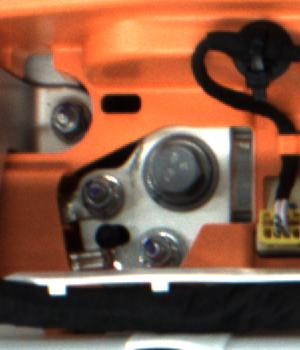nut_b: (144, 134, 215, 208)
screw_s: (44, 98, 86, 148), (85, 176, 126, 218), (137, 233, 177, 270)
